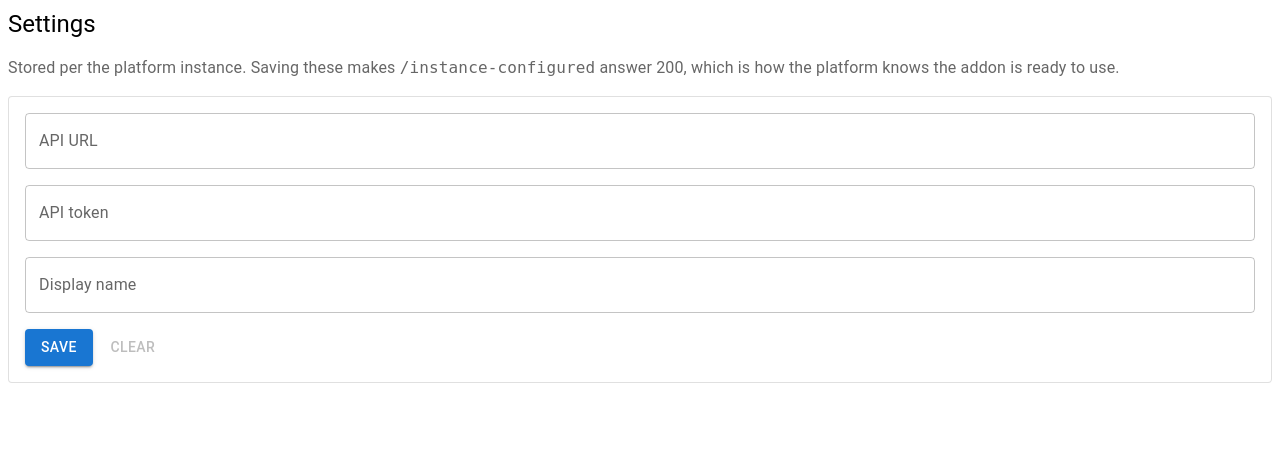
it: ExampleSettingsPage › refuses to submit an invalid payload
The width and height of the screenshot is (1280, 468).
Step 1. Type "x" into the field labelled "API URL" → (640, 141), box left=25, top=113, right=1255, bottom=169
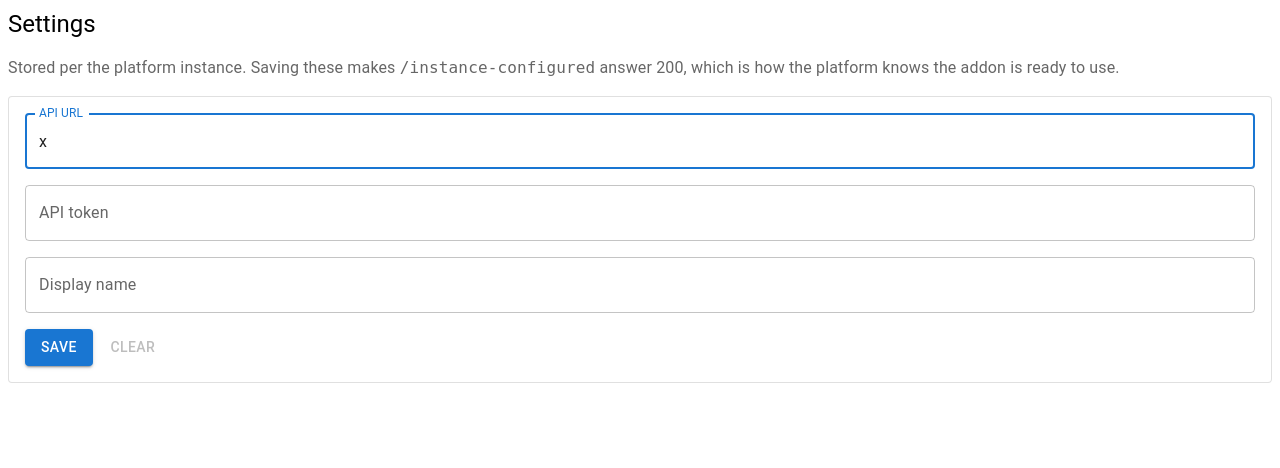
Step 2. Click the button "Save" → click(59, 347), box left=25, top=329, right=93, bottom=366
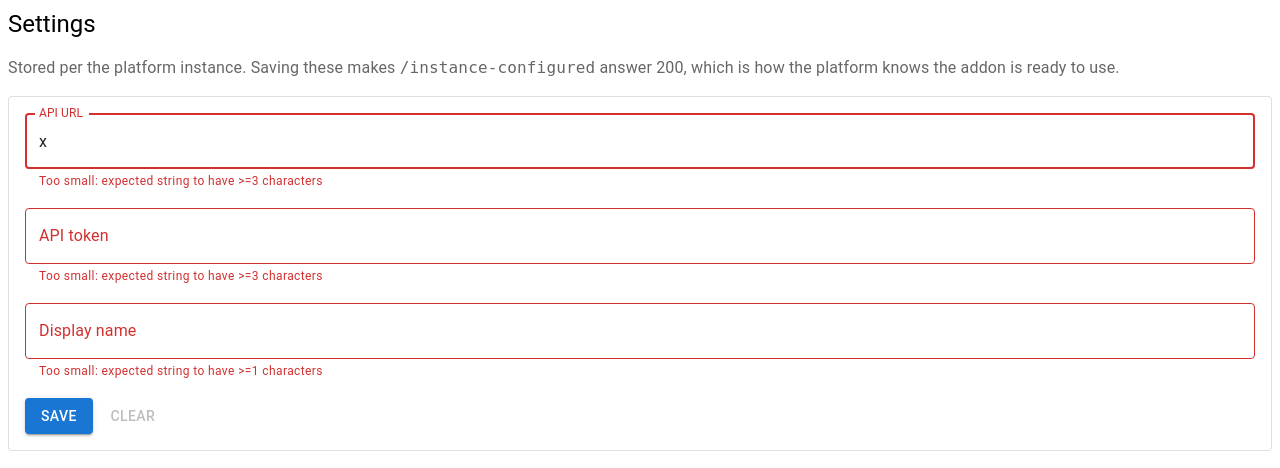
Now the text "Too small" below "API URL" is shown, box left=39, top=174, right=323, bottom=188
